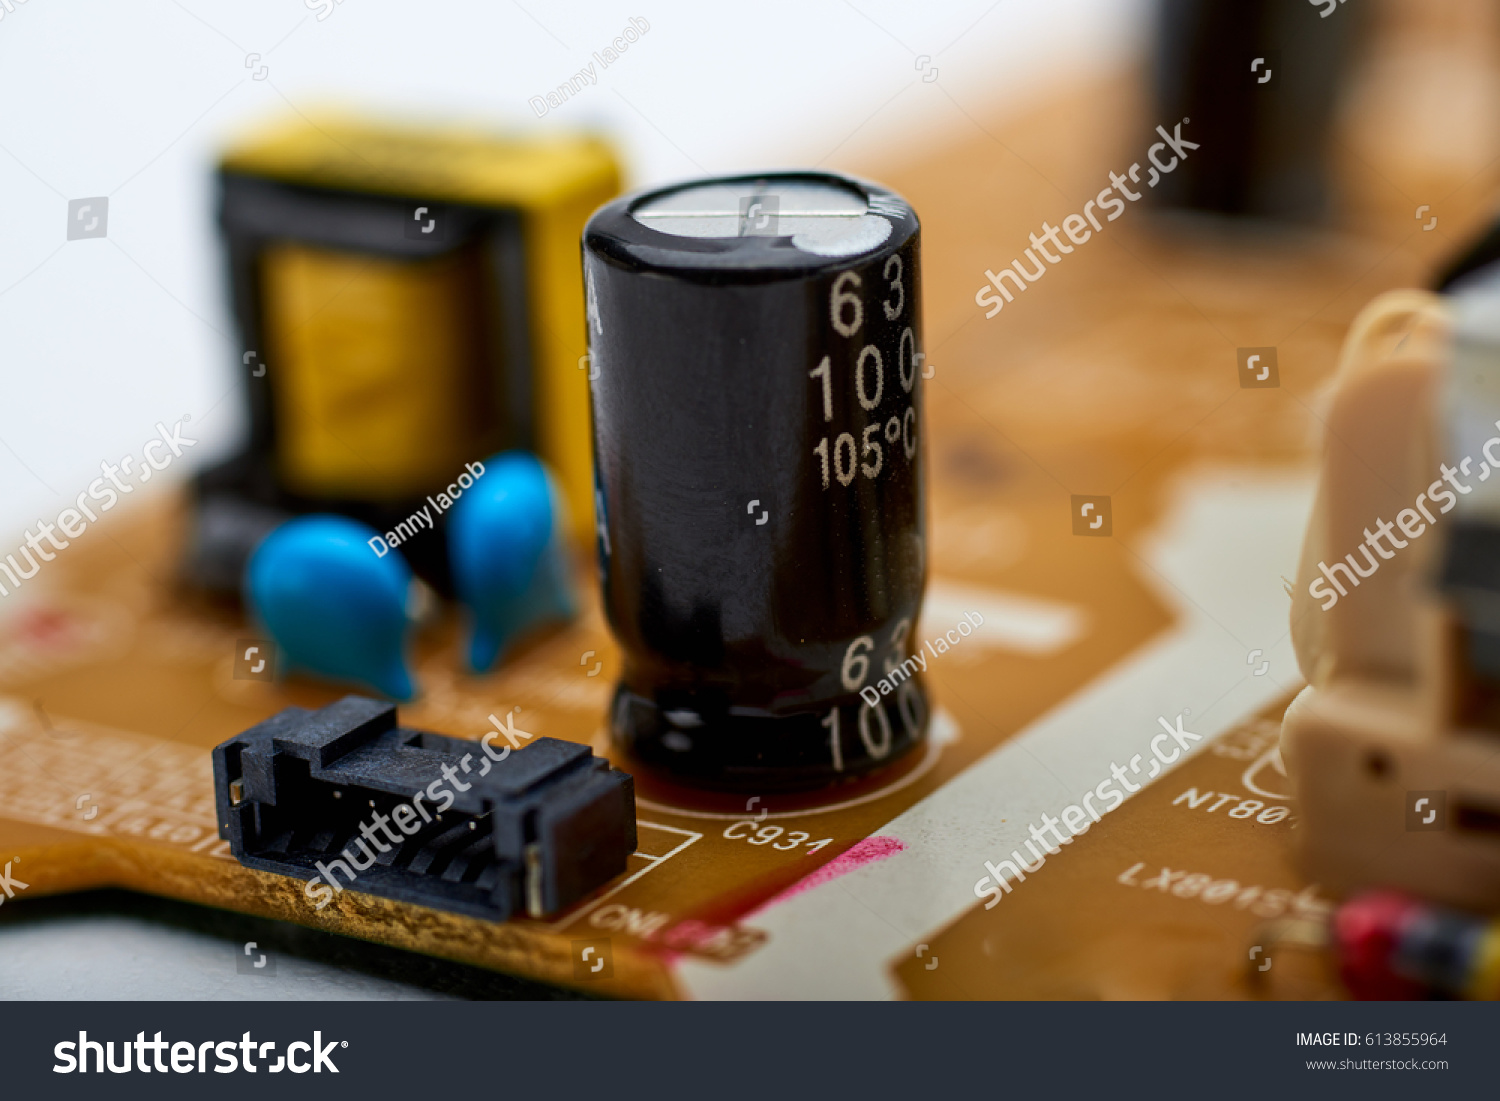capacitor: (545, 129, 1009, 853)
